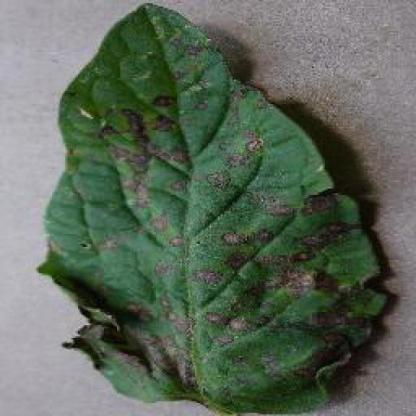Tomato_Blight: (35, 7, 382, 405)
